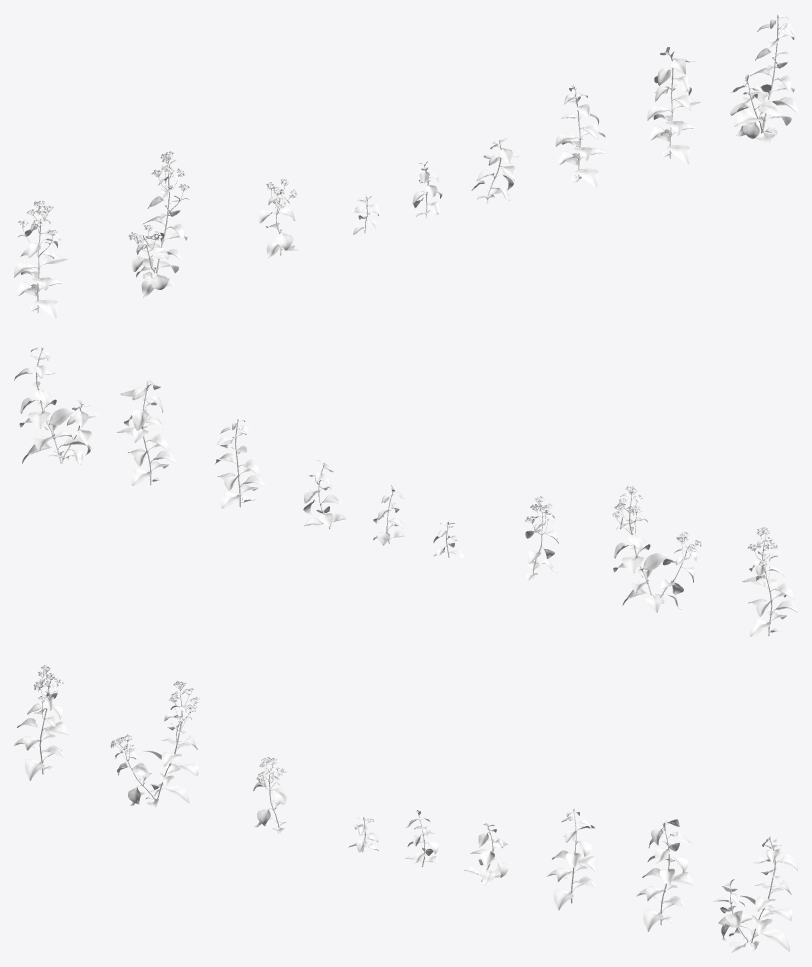
The model's file is PH_Shrub_01.glb.
3 renders of one model, top to bottom at view 1: azimuth 30°, elevation 25°; view 2: azimuth 150°, elevation 25°; view 3: azimuth 330°, elevation 25°, orthographic. The views are drawn at different scales.
Visible parts, largest first — view 1: shrub_01_a_LOD0, shrub_01_h_LOD0, shrub_01_b_LOD0, shrub_01_i_LOD0, shrub_01_c_LOD0, shrub_01_g_LOD0, shrub_01_d_LOD0, shrub_01_e_LOD0; view 2: shrub_01_h_LOD0, shrub_01_a_LOD0, shrub_01_b_LOD0, shrub_01_i_LOD0, shrub_01_c_LOD0, shrub_01_g_LOD0, shrub_01_d_LOD0, shrub_01_e_LOD0; view 3: shrub_01_a_LOD0, shrub_01_h_LOD0, shrub_01_b_LOD0, shrub_01_i_LOD0, shrub_01_c_LOD0, shrub_01_g_LOD0, shrub_01_d_LOD0, shrub_01_e_LOD0.
Part boxes in pixels (x1,y1,x2,y2): shrub_01_a_LOD0: [730, 14, 797, 144]; shrub_01_h_LOD0: [128, 151, 189, 297]; shrub_01_b_LOD0: [647, 47, 700, 164]; shrub_01_i_LOD0: [14, 200, 67, 318]; shrub_01_c_LOD0: [555, 85, 606, 187]; shrub_01_g_LOD0: [258, 179, 299, 257]; shrub_01_d_LOD0: [471, 138, 519, 203]; shrub_01_e_LOD0: [412, 161, 442, 218]; shrub_01_h_LOD0: [611, 485, 701, 612]; shrub_01_a_LOD0: [14, 347, 98, 465]; shrub_01_b_LOD0: [117, 380, 175, 485]; shrub_01_i_LOD0: [742, 527, 797, 636]; shrub_01_c_LOD0: [215, 418, 265, 508]; shrub_01_g_LOD0: [525, 496, 558, 580]; shrub_01_d_LOD0: [303, 460, 347, 529]; shrub_01_e_LOD0: [373, 485, 406, 545]; shrub_01_a_LOD0: [713, 836, 797, 952]; shrub_01_h_LOD0: [110, 681, 200, 807]; shrub_01_b_LOD0: [636, 819, 694, 931]; shrub_01_i_LOD0: [14, 665, 69, 780]; shrub_01_c_LOD0: [547, 808, 597, 910]; shrub_01_g_LOD0: [253, 757, 286, 833]; shrub_01_d_LOD0: [464, 823, 508, 885]; shrub_01_e_LOD0: [405, 810, 438, 867].
Size of what is drawn, in the model's own units: 2.59 by 0.396 by 0.2186.
Materials: 1 (1 with a texture image).
